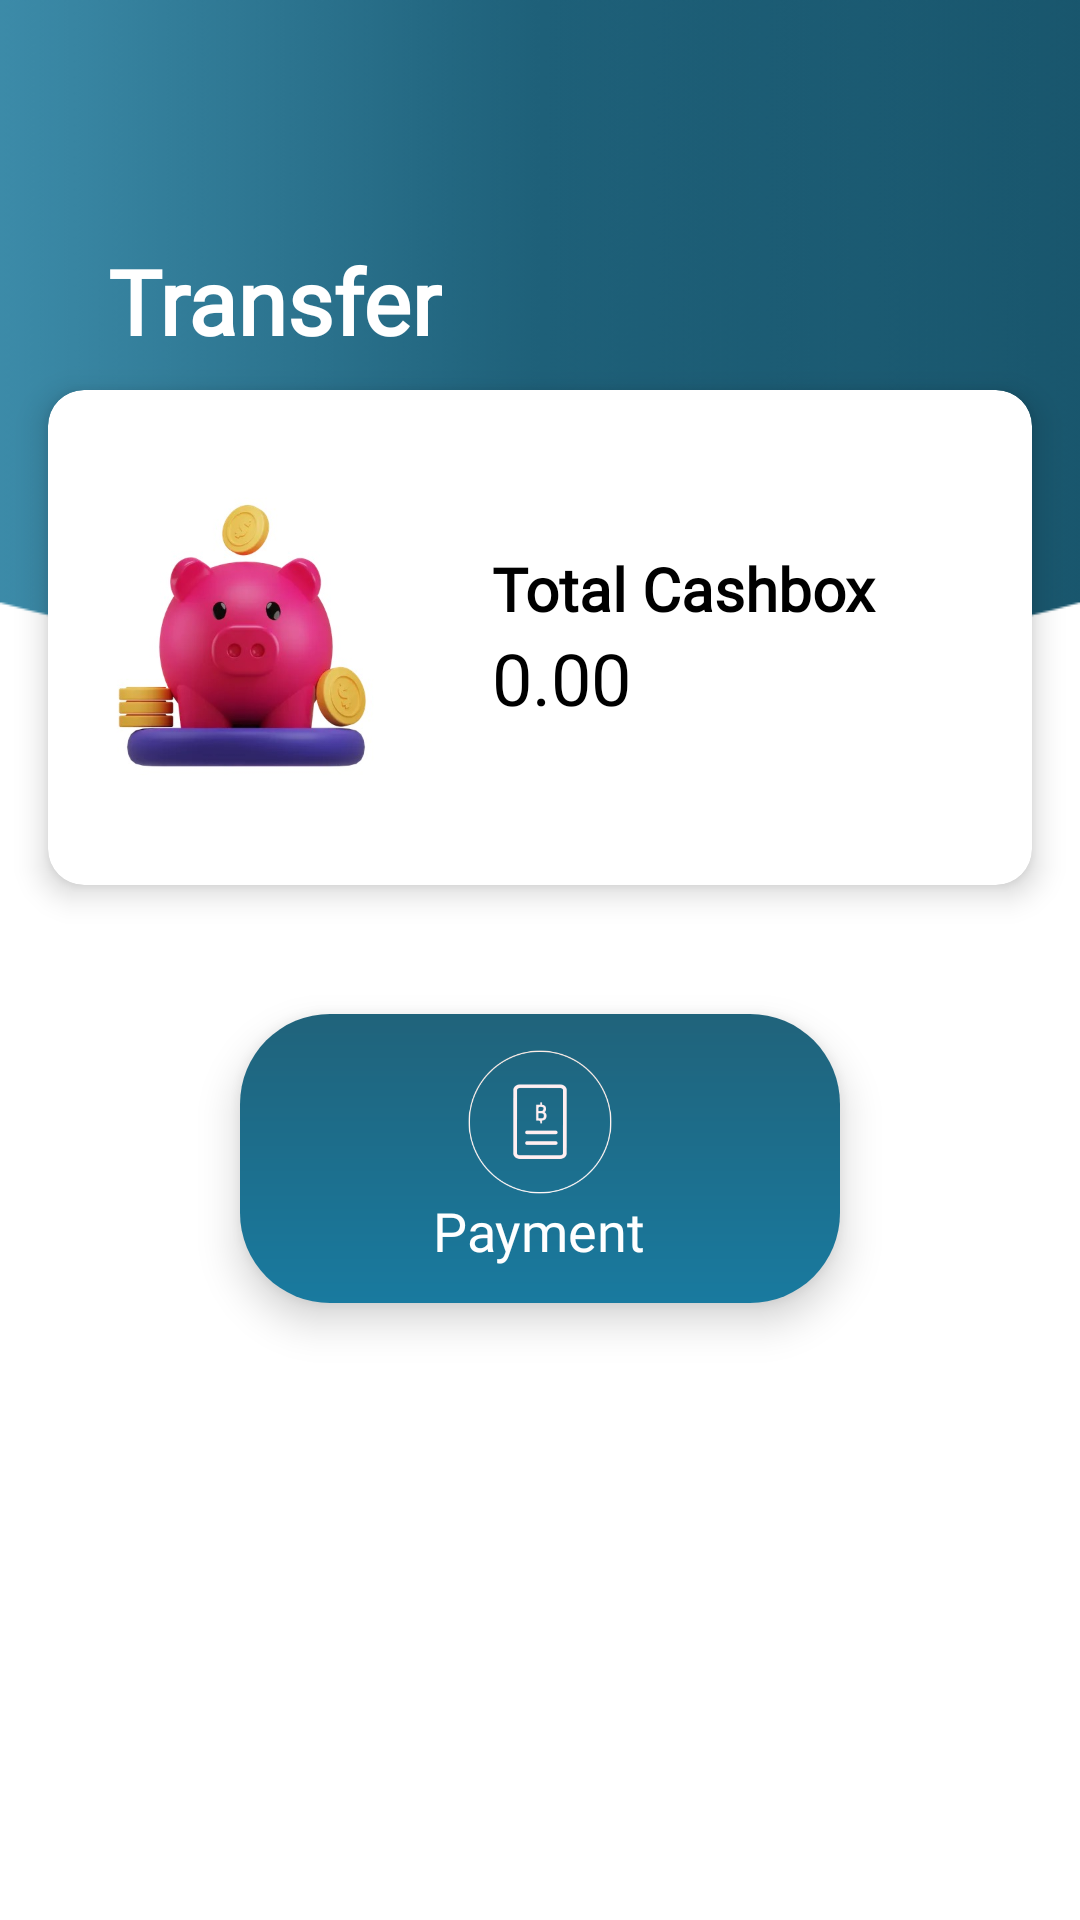

Icons on this 1080*1920 Android screen, each with its box as bbox=(x1, y1, x2, y2):
Balance Icon: bbox=(118, 504, 366, 767)
